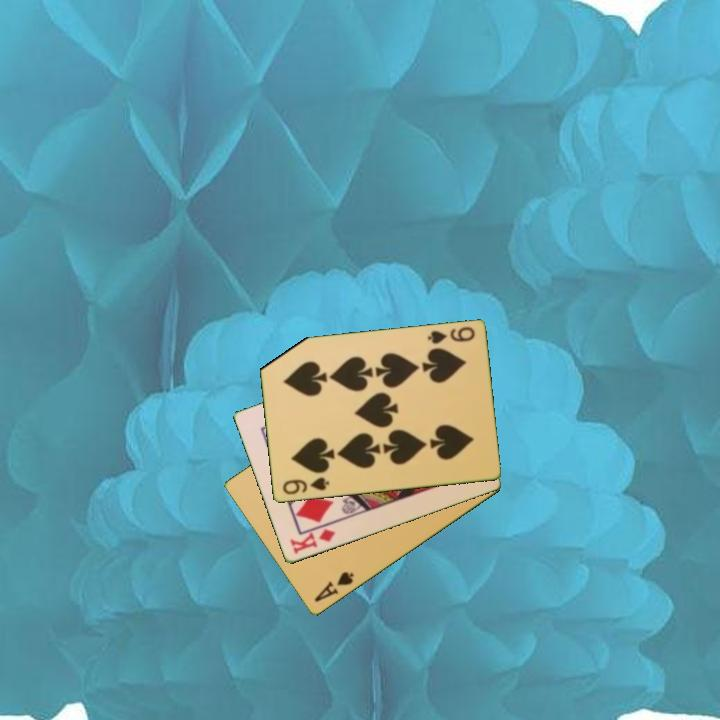9s: (279, 474, 332, 498), (424, 323, 477, 347)
As: (311, 568, 357, 606)
Kd: (286, 525, 338, 557)
